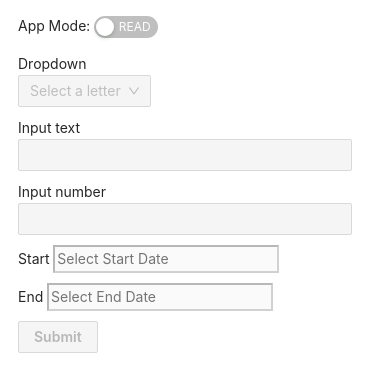
Test case: Form › shows correctly the required error for the numeric input
Click the switch with test id "appToggle" at (126, 27), box [94,16,158,38]
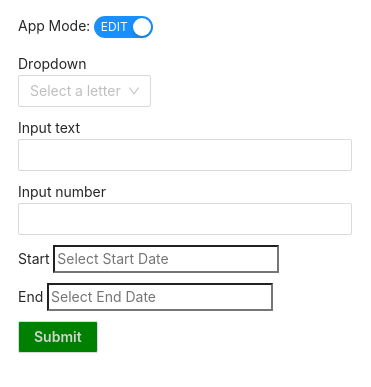
Click the button "Submit" at (58, 337), box [18,321,98,353]
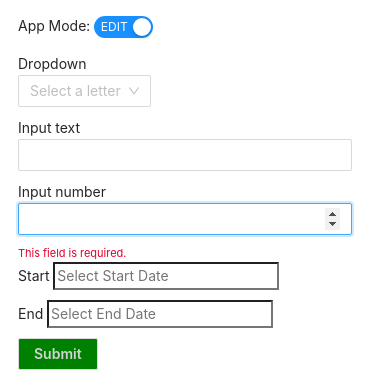
expect the text "This field is required." is shown: met, box [18,246,126,260]
